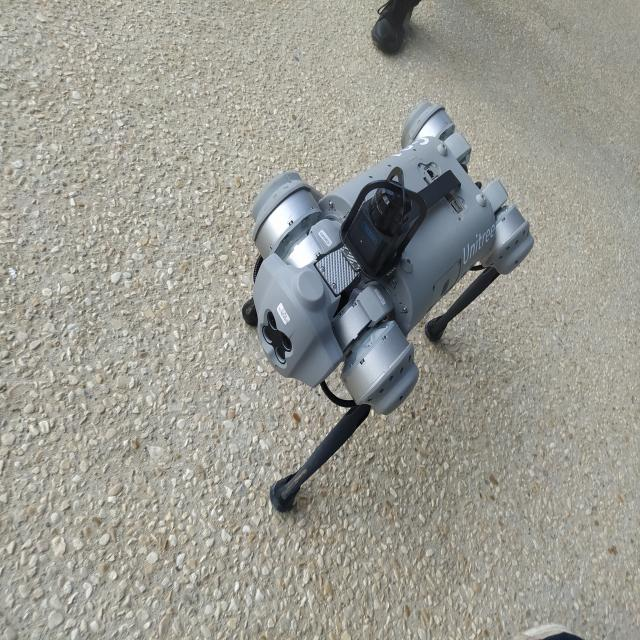unitree-go1-robot: (250, 103, 534, 510)
